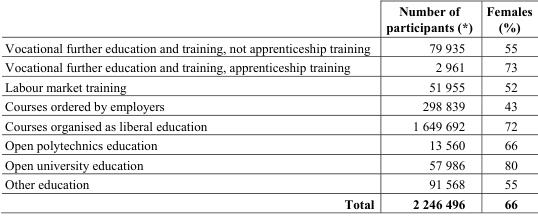table: (4, 3, 531, 210)
table column: (4, 3, 379, 210), (379, 3, 478, 210), (478, 3, 531, 210)
table column header: (4, 3, 531, 36)
table row: (4, 3, 531, 36), (4, 36, 531, 57), (4, 76, 531, 96), (4, 115, 531, 135), (4, 154, 531, 174), (4, 57, 531, 76), (4, 96, 531, 115), (4, 135, 531, 154), (4, 174, 531, 193), (4, 193, 531, 210)
